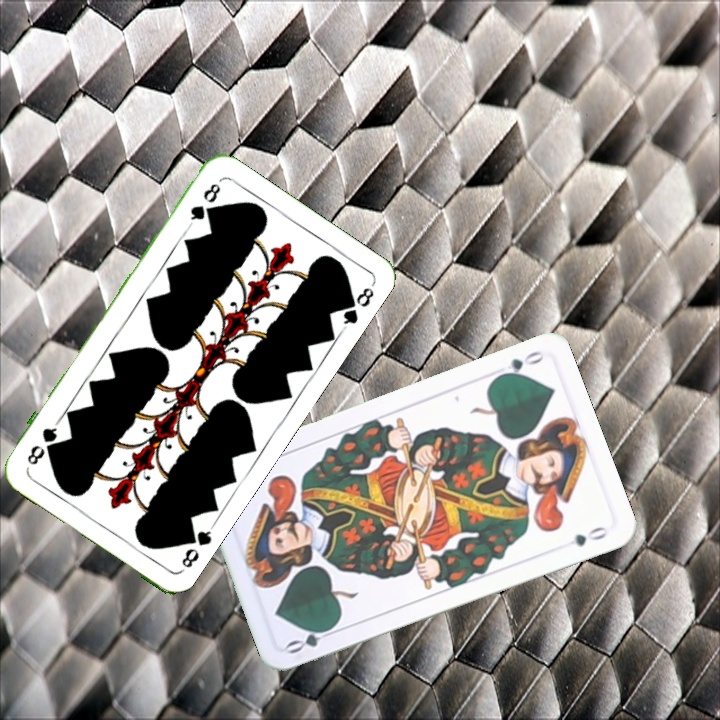G8: (184, 179, 223, 229), (177, 522, 216, 571)
GO: (282, 620, 340, 657), (491, 346, 546, 382)
